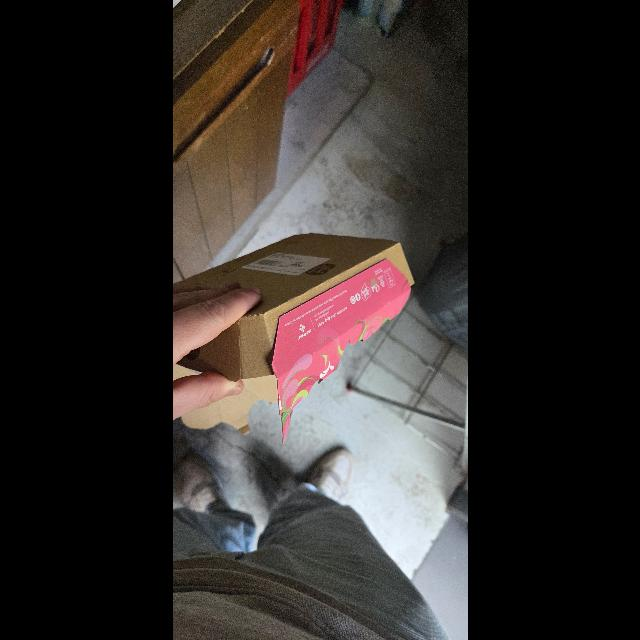Cardboard: (172, 226, 416, 436)
